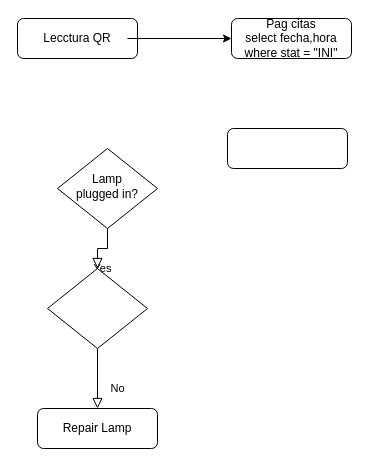
This 369x466 diagram has some shape labels left out. Here are the shapes that lost their labels. From the top down, the box of each, then its label:
(226, 128, 348, 168): Replace Bulb
(46, 268, 148, 348): Bulb burned out?
